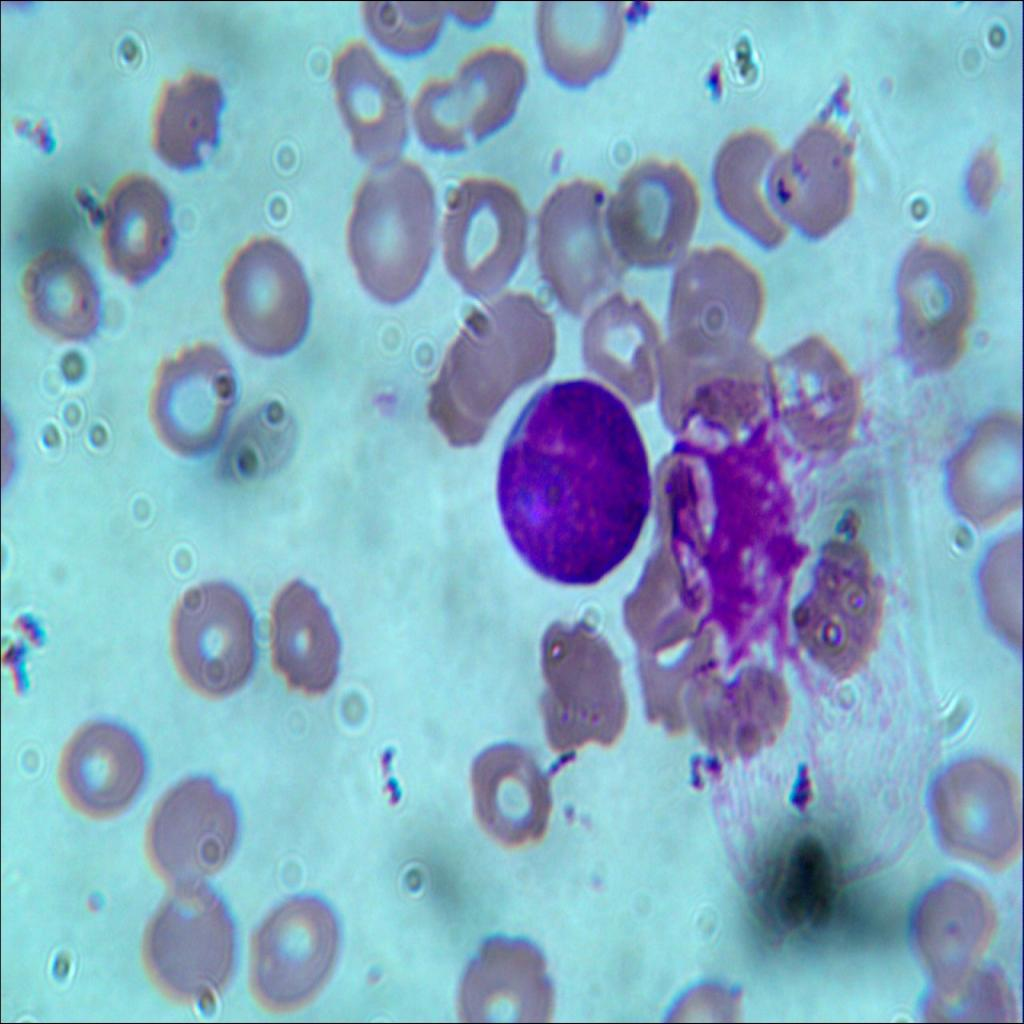Eritrosit: (891, 862, 1008, 1000), (340, 159, 446, 311), (215, 230, 328, 358), (83, 168, 183, 307), (241, 879, 339, 1019), (799, 534, 889, 678), (540, 610, 630, 752), (538, 169, 632, 304), (913, 741, 1019, 858), (260, 578, 358, 704), (433, 159, 526, 290), (134, 877, 238, 994), (658, 317, 764, 431), (142, 341, 238, 465), (451, 917, 563, 1023), (454, 732, 554, 850), (629, 608, 724, 732), (168, 568, 255, 701), (143, 768, 246, 879), (54, 710, 146, 831), (423, 328, 513, 451), (894, 245, 976, 378), (693, 666, 795, 770), (770, 125, 860, 241), (711, 127, 799, 245), (778, 332, 860, 458), (415, 52, 518, 152), (473, 282, 568, 390), (326, 45, 408, 167), (623, 531, 713, 642), (576, 287, 661, 401), (599, 171, 703, 260), (949, 402, 1023, 524), (148, 65, 230, 174), (669, 248, 768, 338), (535, 0, 623, 101), (19, 235, 102, 341), (651, 435, 711, 558)
Limfoblast: (498, 371, 663, 585), (584, 184, 618, 218)
Platelet: (958, 136, 1019, 212)
